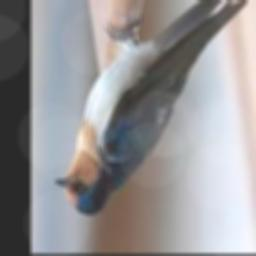Swallow: (54, 0, 256, 216)
